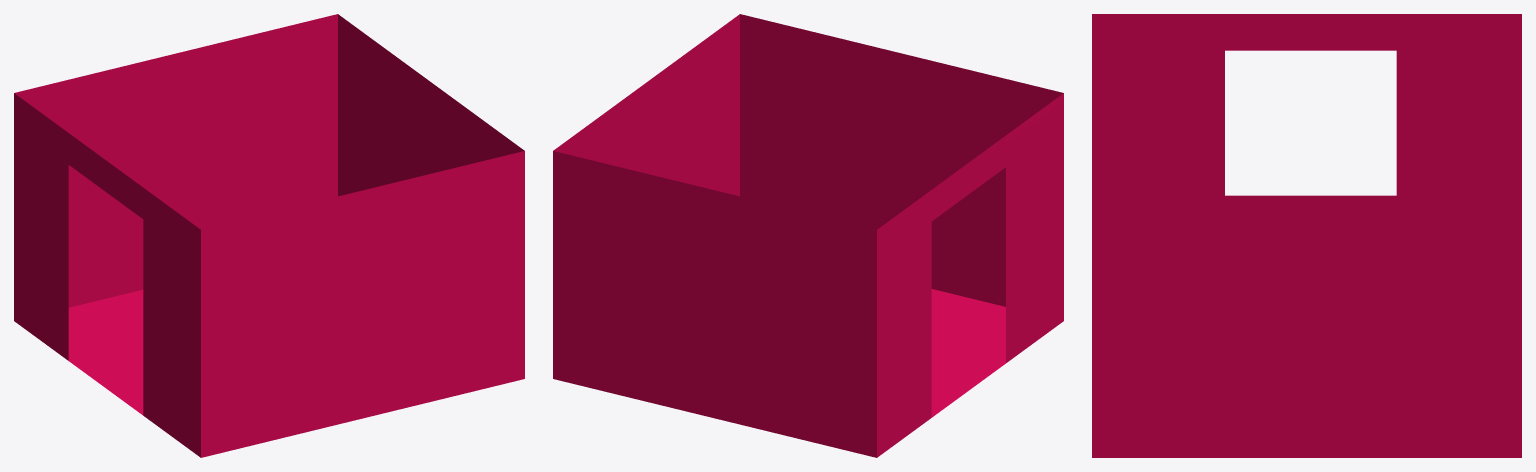
File: room.fbx
3 renders of one model, left to right at view 1: azimuth 30°, elevation 25°; view 2: azimuth 150°, elevation 25°; view 3: azimuth 270°, elevation 25°, orthographic. The views are drawn at different scales.
Parts seen in each view (by area): view 1: polySurface5; view 2: polySurface5; view 3: polySurface5.
Part boxes in pixels (box(x1,y1,x2,y2)): polySurface5: box(14, 14, 524, 457); polySurface5: box(553, 14, 1063, 457); polySurface5: box(1092, 14, 1521, 457).
Size of the model in its own units: 5.8 by 3.9 by 5.8.
